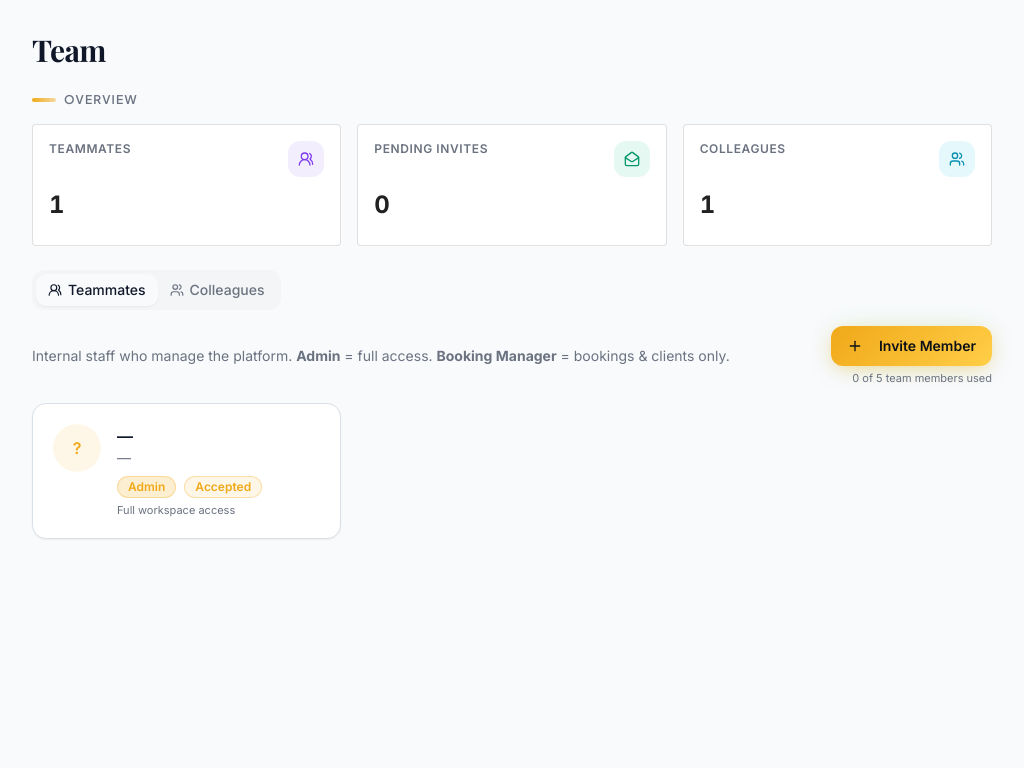
Test: Team › edits an existing colleague, pre-filling the form
This screenshot has width=1024, height=768.
Later steps or results of the test are not shown.
Step 1. Press the mouse on the tab "Colleagues" → coordinates (217, 290), box [158, 274, 277, 306]
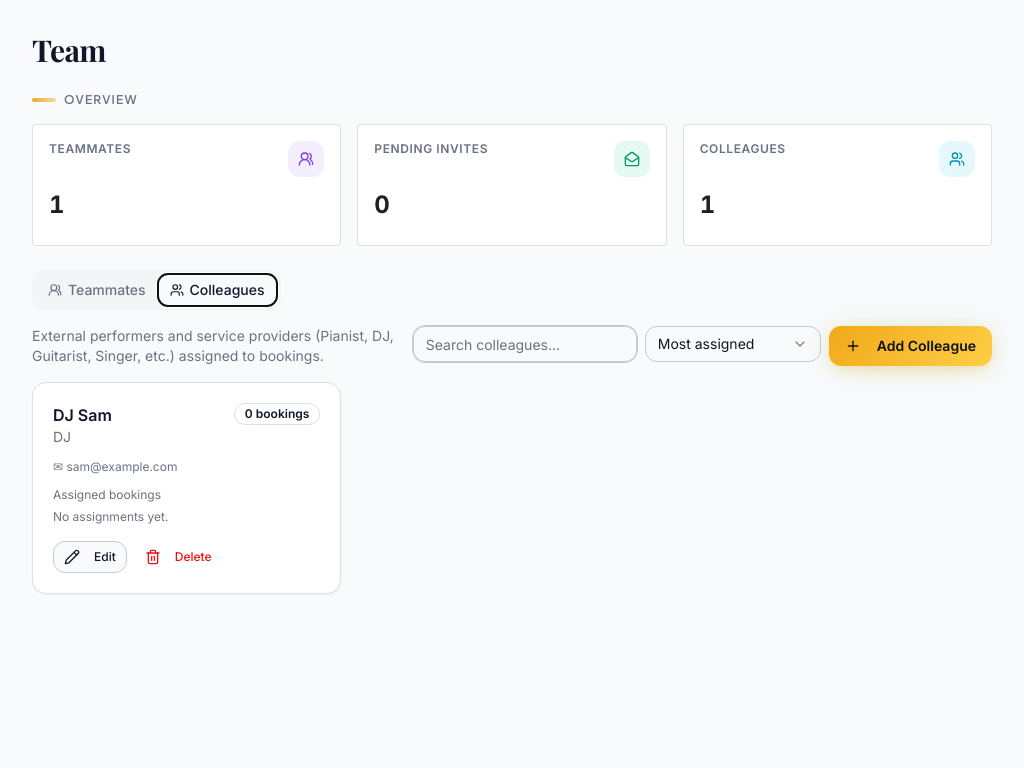
Step 2. Click the tab "Colleagues" → coordinates (217, 290), box [158, 274, 277, 306]
Check: the text "DJ Sam" is shown, box [53, 403, 112, 427]
Step 3. Click the button "Edit" → coordinates (90, 557), box [53, 541, 127, 573]
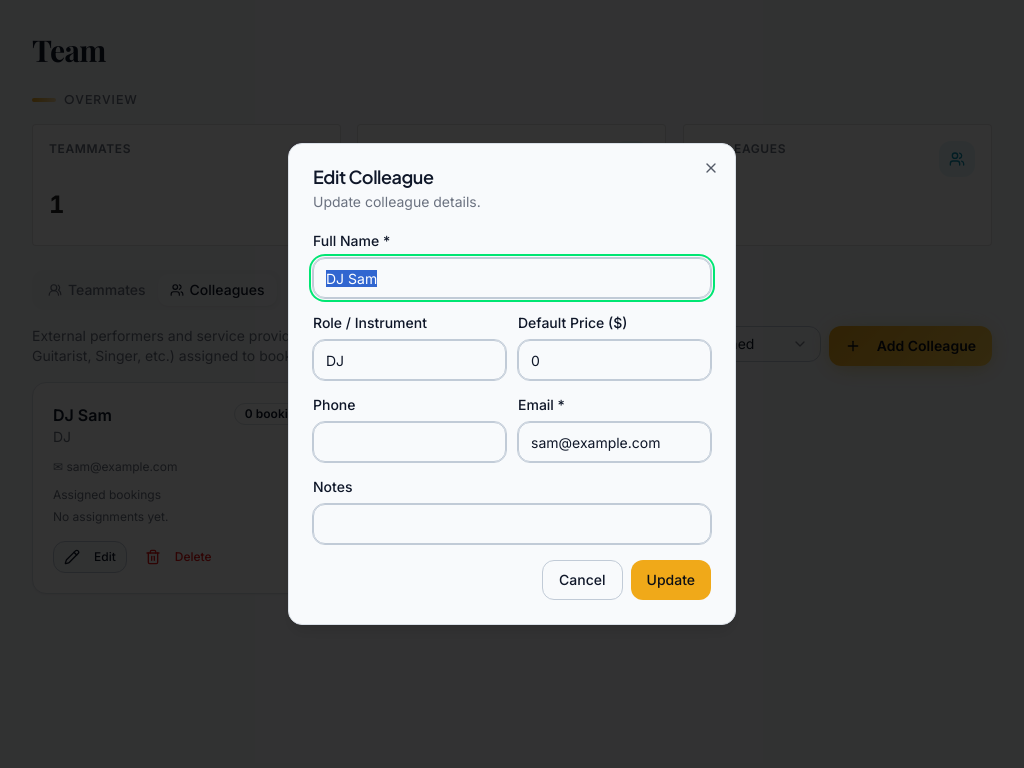
Check: the field labelled "Full Name *" holds "DJ Sam", box [313, 258, 711, 298]
